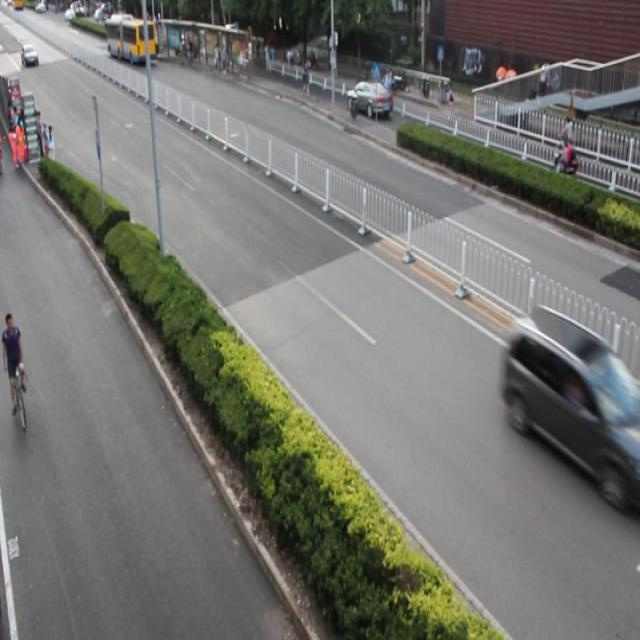car: (502, 304, 631, 484), (345, 76, 390, 117)
